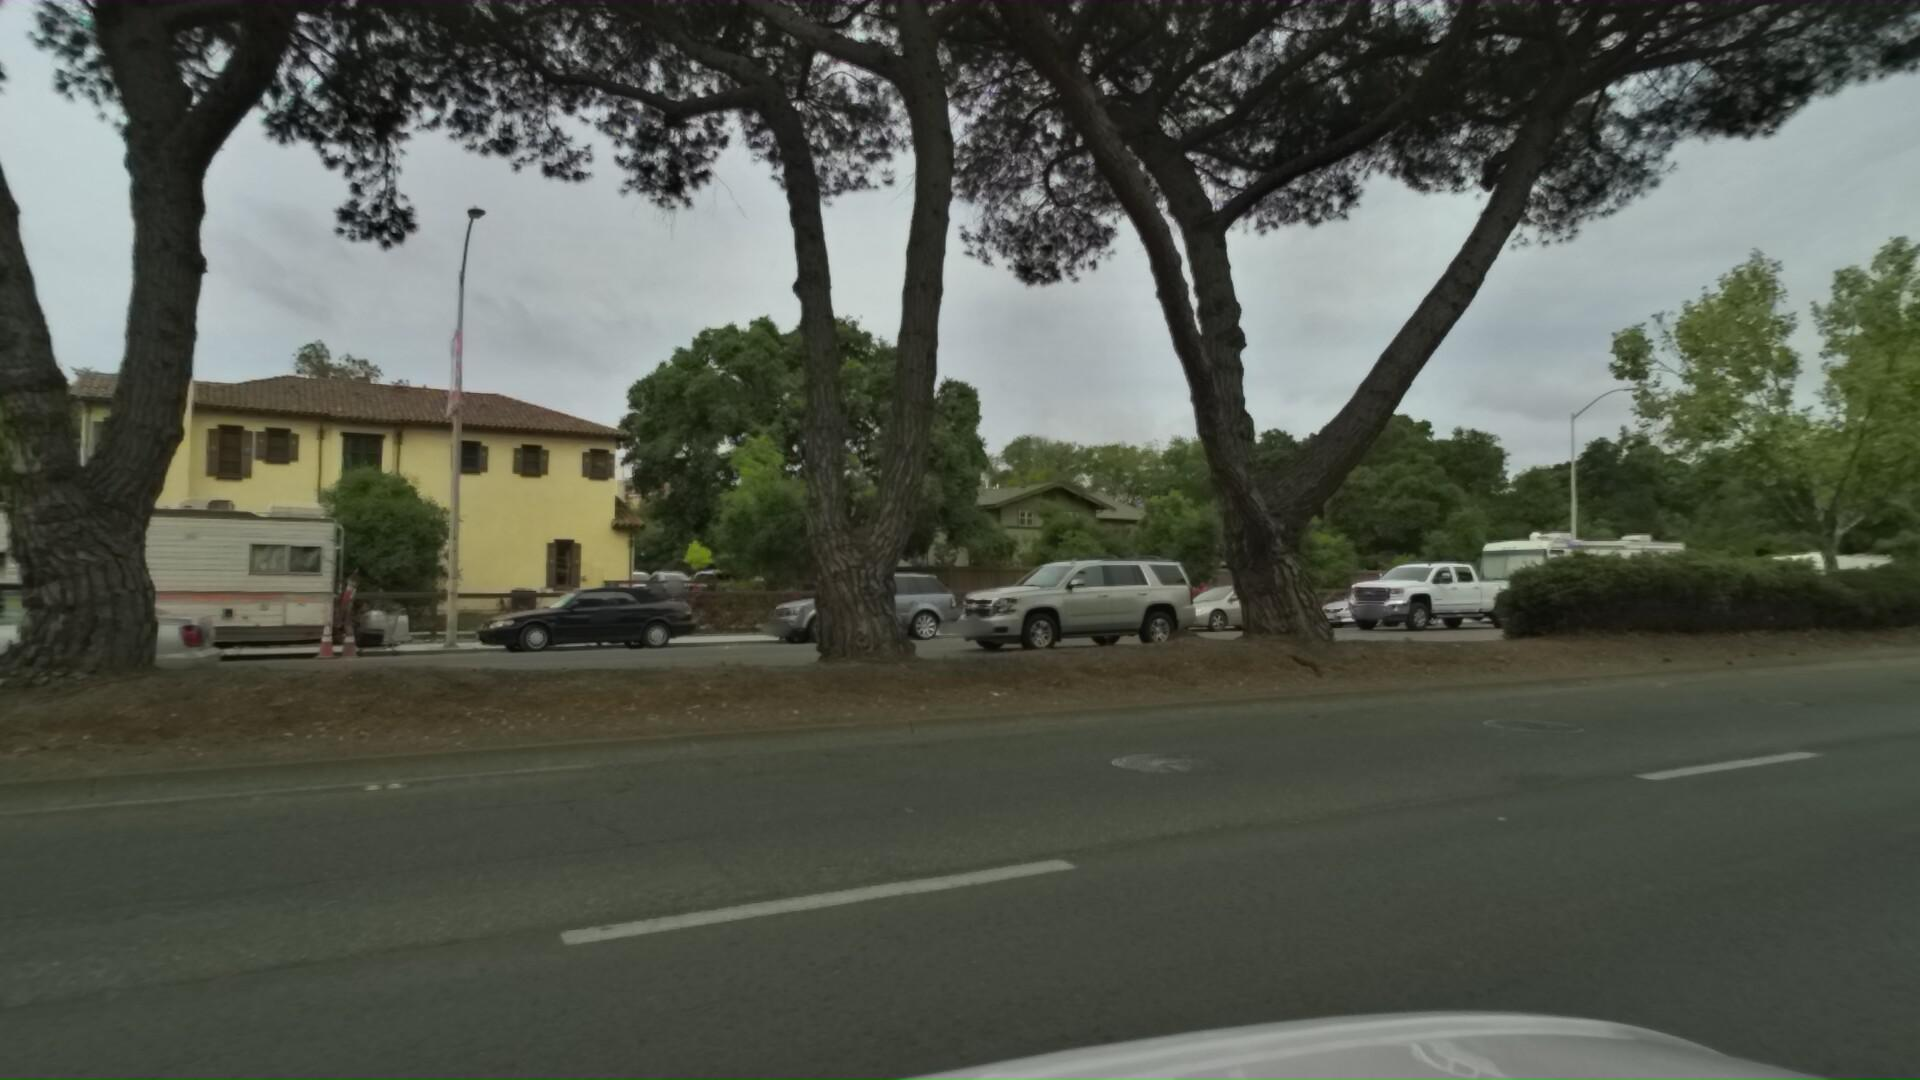car: (881, 551, 1154, 659), (0, 568, 123, 766), (959, 553, 1174, 642), (433, 583, 675, 661), (725, 567, 945, 650), (1294, 560, 1498, 636), (1287, 572, 1447, 636), (1130, 583, 1286, 636)
other_vehicle: (0, 479, 390, 684), (1440, 516, 1685, 626), (1741, 542, 1892, 612)
